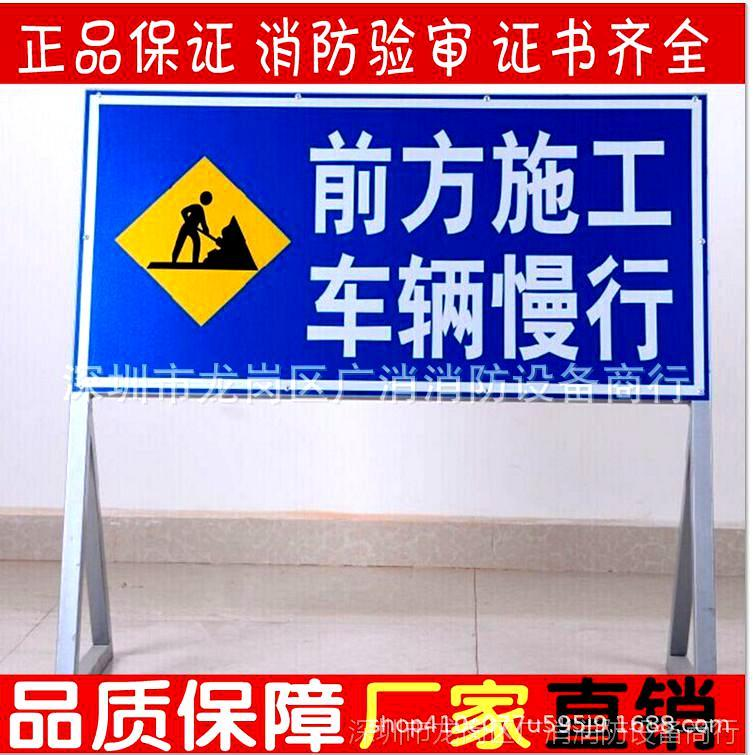sign: (76, 94, 704, 389)
